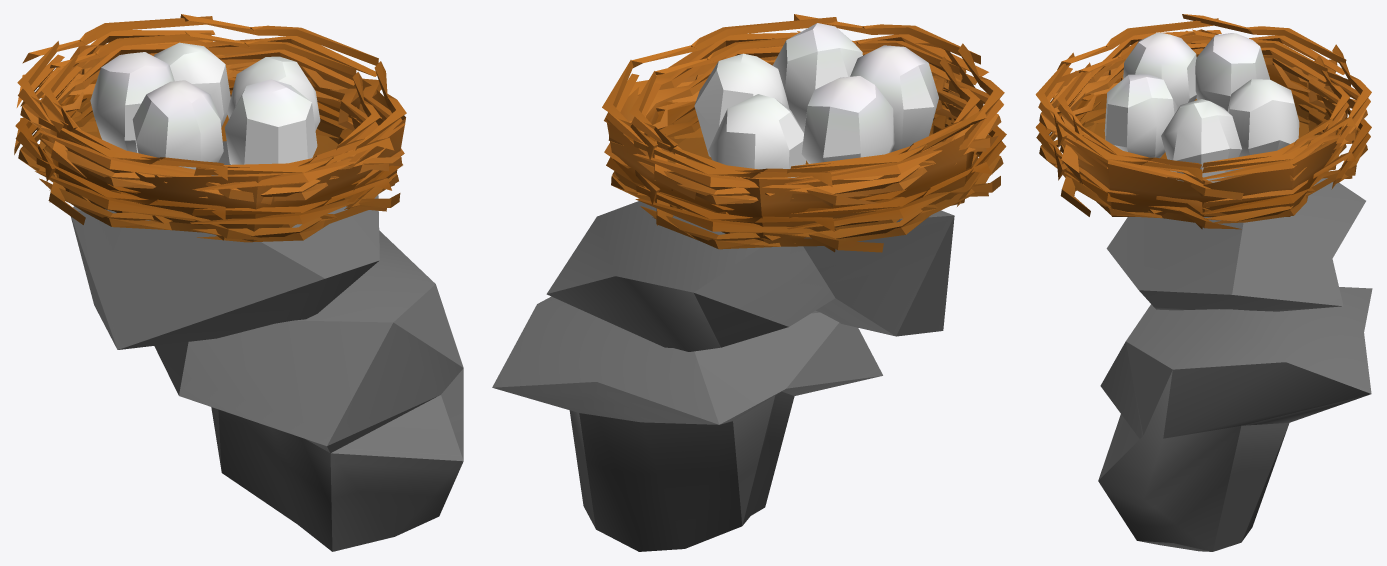
The model's file is NinhonaRocha.glb.
3 views of the same model, side by side, from view 1: azimuth 30°, elevation 25°; view 2: azimuth 150°, elevation 25°; view 3: azimuth 270°, elevation 25° (orthographic). The views are drawn at different scales.
Visible parts, largest first — view 1: NinhonaRocha; view 2: NinhonaRocha; view 3: NinhonaRocha.
Boxes of the visible parts, x1,y1,x2,y2 form: NinhonaRocha: (14,14,463,551); NinhonaRocha: (492,14,1006,551); NinhonaRocha: (1035,14,1372,551).
Bounding box in the file's own units: 2.15 × 2.59 × 1.9.
1 material, 1 textured.
